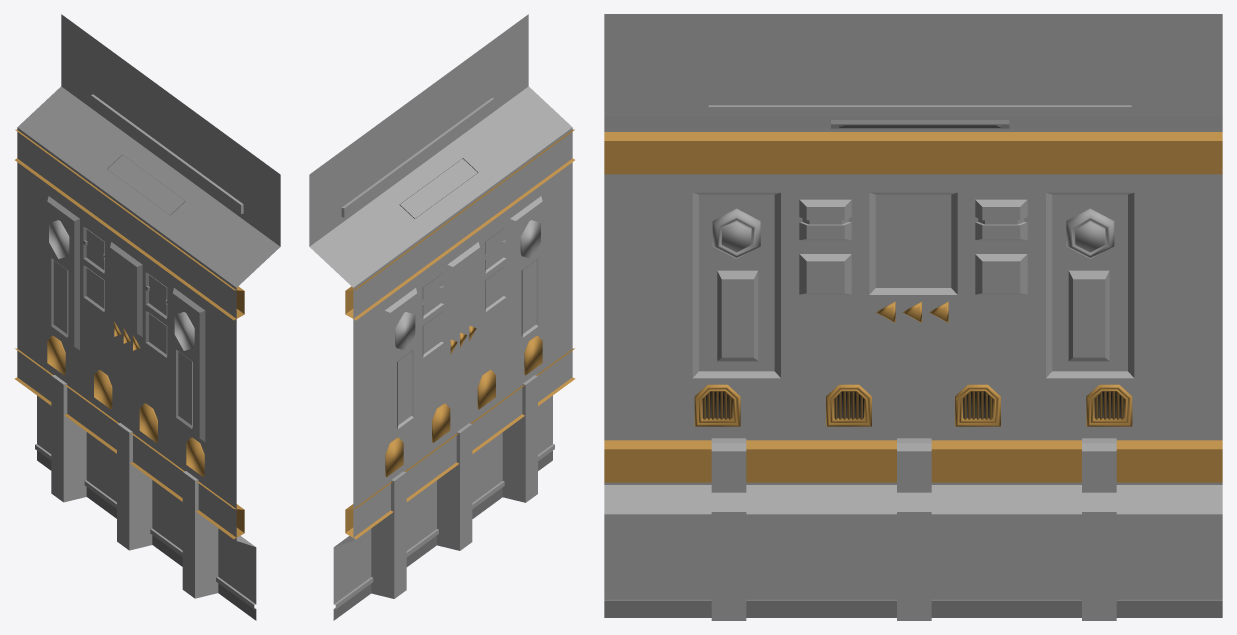
File: wall_3.017_lev3.glb
3 renders of one model, left to right at view 1: azimuth 30°, elevation 25°; view 2: azimuth 150°, elevation 25°; view 3: azimuth 270°, elevation 25°, orthographic. The views are drawn at different scales.
Visible parts, largest first — view 1: wall_3.017_lev3; view 2: wall_3.017_lev3; view 3: wall_3.017_lev3.
Boxes of the visible parts, left/top/right/bottom form: wall_3.017_lev3: left=14, top=14, right=280, bottom=620; wall_3.017_lev3: left=309, top=14, right=575, bottom=620; wall_3.017_lev3: left=604, top=14, right=1222, bottom=620.
Bounding box in the file's own units: 0.523 × 4.43 × 4.
